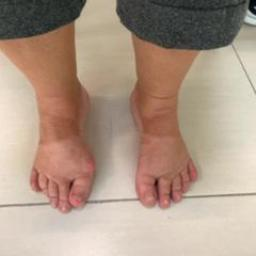Dorsal View -Both Feet-: (8, 57, 216, 227)
